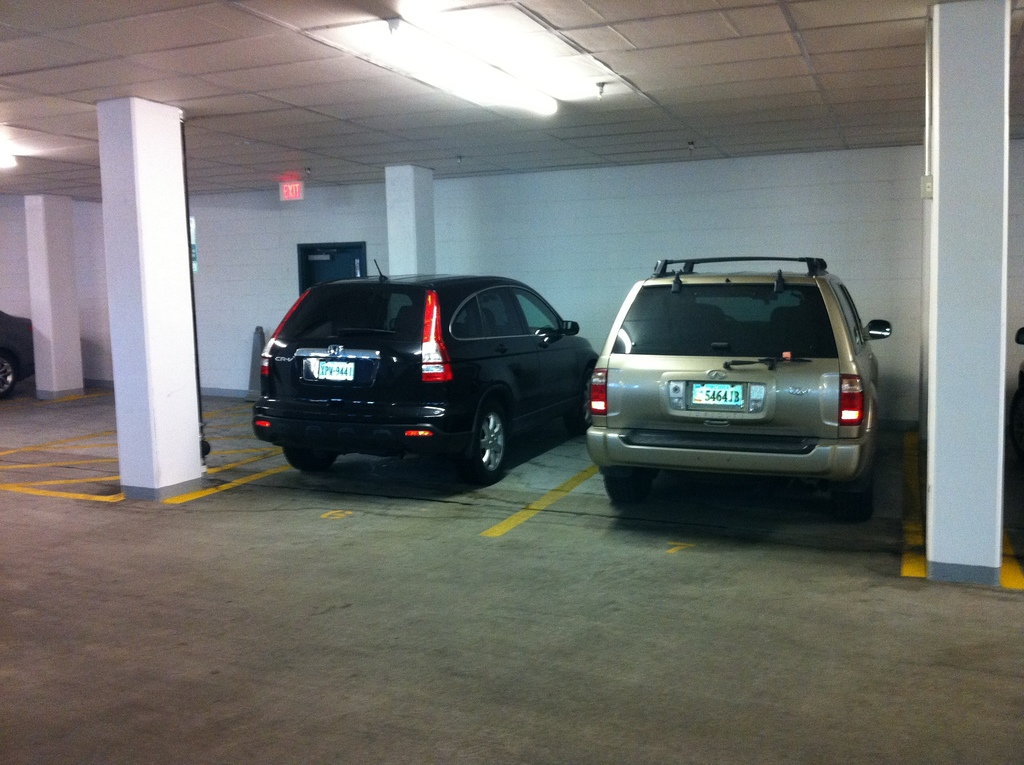license plate: (692, 383, 745, 405), (314, 357, 352, 378)
